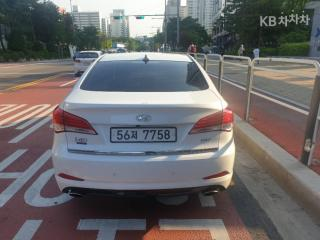5: (116, 129, 124, 141), (157, 129, 164, 140)
6: (124, 129, 130, 140)
7: (142, 129, 150, 140), (149, 129, 157, 140)
8: (164, 129, 170, 140)
plate: (106, 123, 182, 146)
저: (131, 130, 139, 140)
